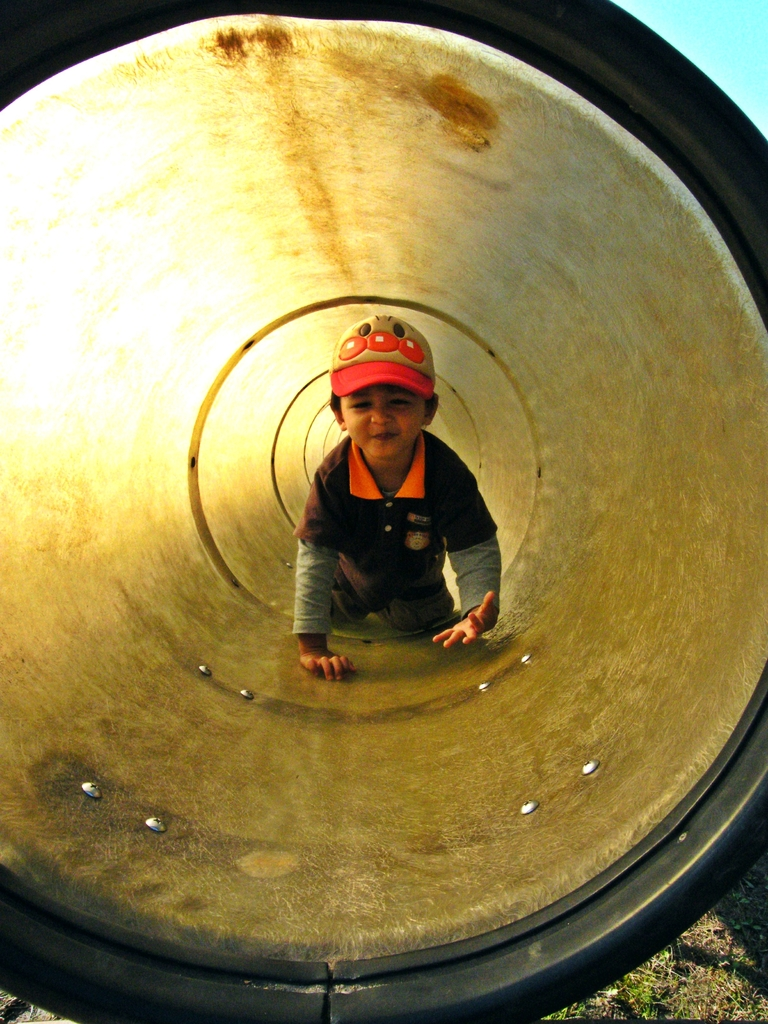Person: (291, 313, 501, 680)
